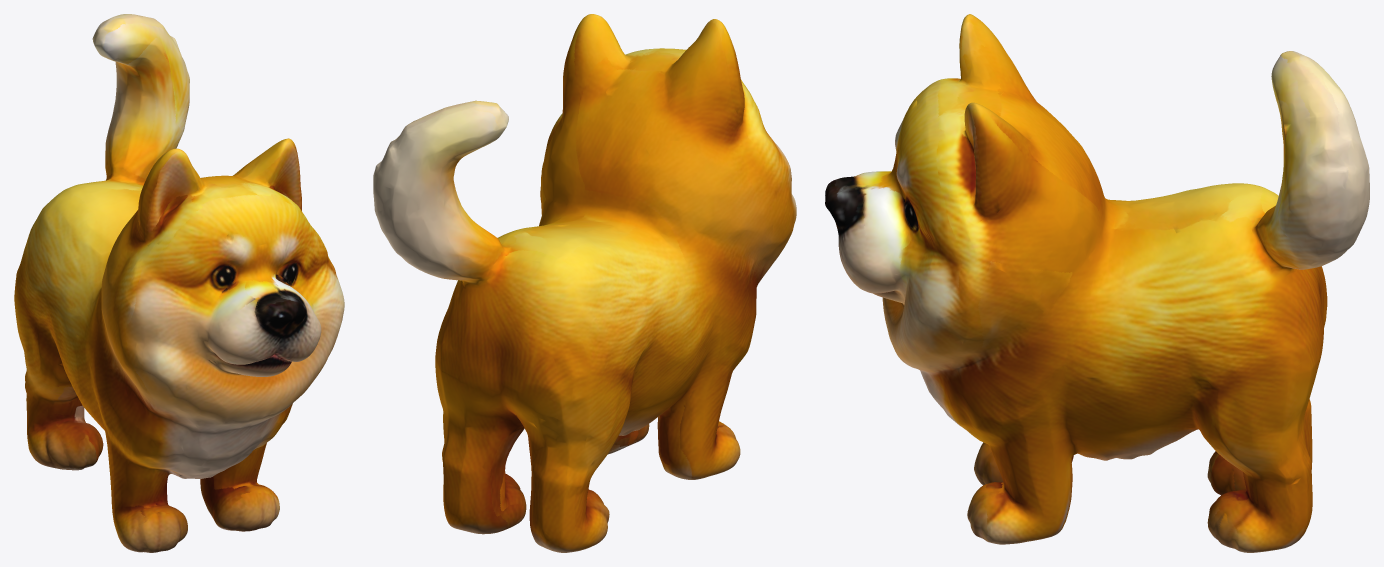
The model's file is goodcase0304_187.glb.
3 renders of one model, left to right at view 1: azimuth 30°, elevation 25°; view 2: azimuth 150°, elevation 25°; view 3: azimuth 270°, elevation 25°, orthographic. The views are drawn at different scales.
Parts seen in each view (by area): view 1: object.001; view 2: object.001; view 3: object.001.
Boxes of the visible parts, box(x1,y1,x2,y2) form: object.001: box(14, 14, 344, 552); object.001: box(373, 14, 796, 552); object.001: box(825, 14, 1369, 552).
Size of the model in its own units: 0.4944 by 0.8549 by 0.8864.
Materials: 1 (1 with a texture image).
